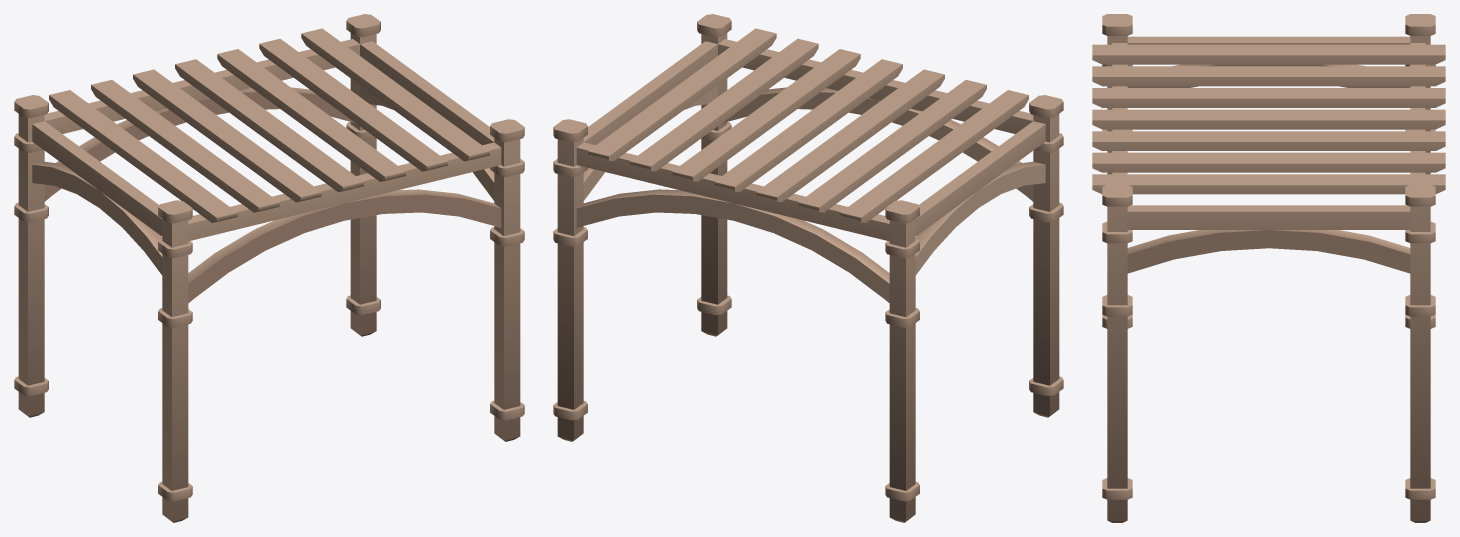
Rendered from pergola-wood.glb.
3 renders of one model, left to right at view 1: azimuth 30°, elevation 25°; view 2: azimuth 150°, elevation 25°; view 3: azimuth 270°, elevation 25°, orthographic. The views are drawn at different scales.
Parts seen in each view (by area): view 1: pergola-wood; view 2: pergola-wood; view 3: pergola-wood.
Part boxes in pixels (bbox=[...]): pergola-wood: bbox=[14, 14, 524, 522]; pergola-wood: bbox=[553, 14, 1063, 522]; pergola-wood: bbox=[1092, 14, 1445, 522].
Size of the model in its own units: 2.15 by 1.8 by 1.75.
